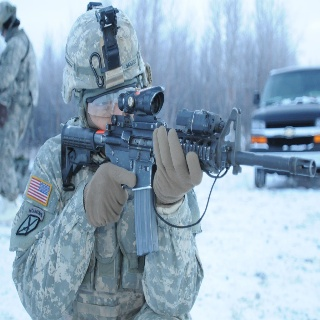rifle: (60, 86, 319, 257)
